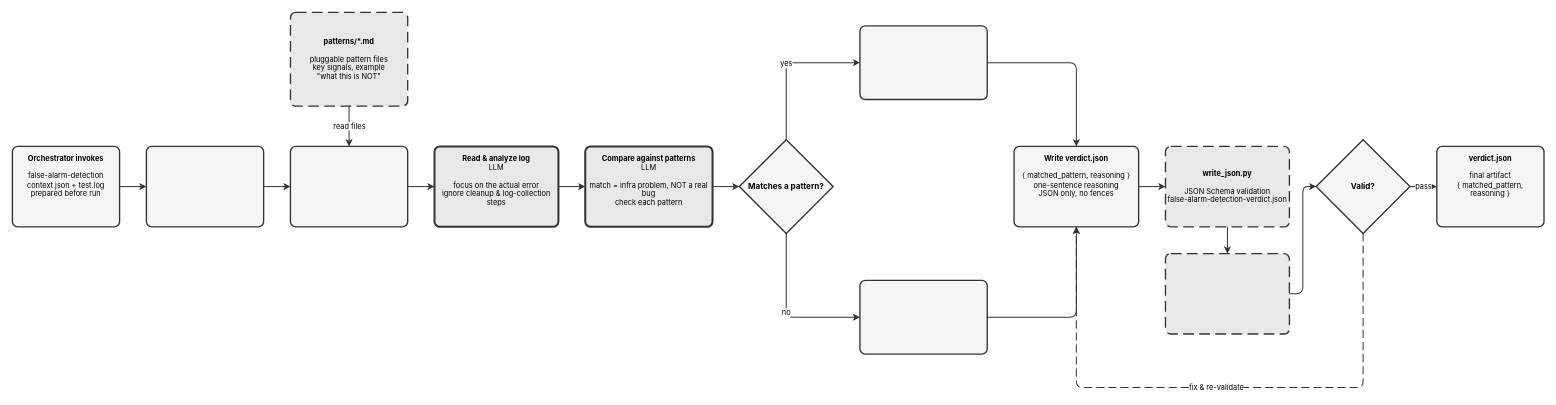
Some shapes in this 1556 by 405 pixel diagram are drawn without their labels. Each missing label, with the box of its shape:
Load known patterns ls ${CLAUDE_SKILL_DIR}/patterns/*.md read each pattern file: (289, 145, 408, 227)
matched_pattern = <name> pattern filename without .md extension: (859, 25, 988, 100)
matched_pattern = null no known pattern matches actual JSON null: (859, 279, 988, 354)
Read context first context.json fields: test_name, plan, result log: test.log: (145, 145, 264, 227)
validate_verdict.py semantic validation against patterns dir: (1164, 253, 1290, 334)
